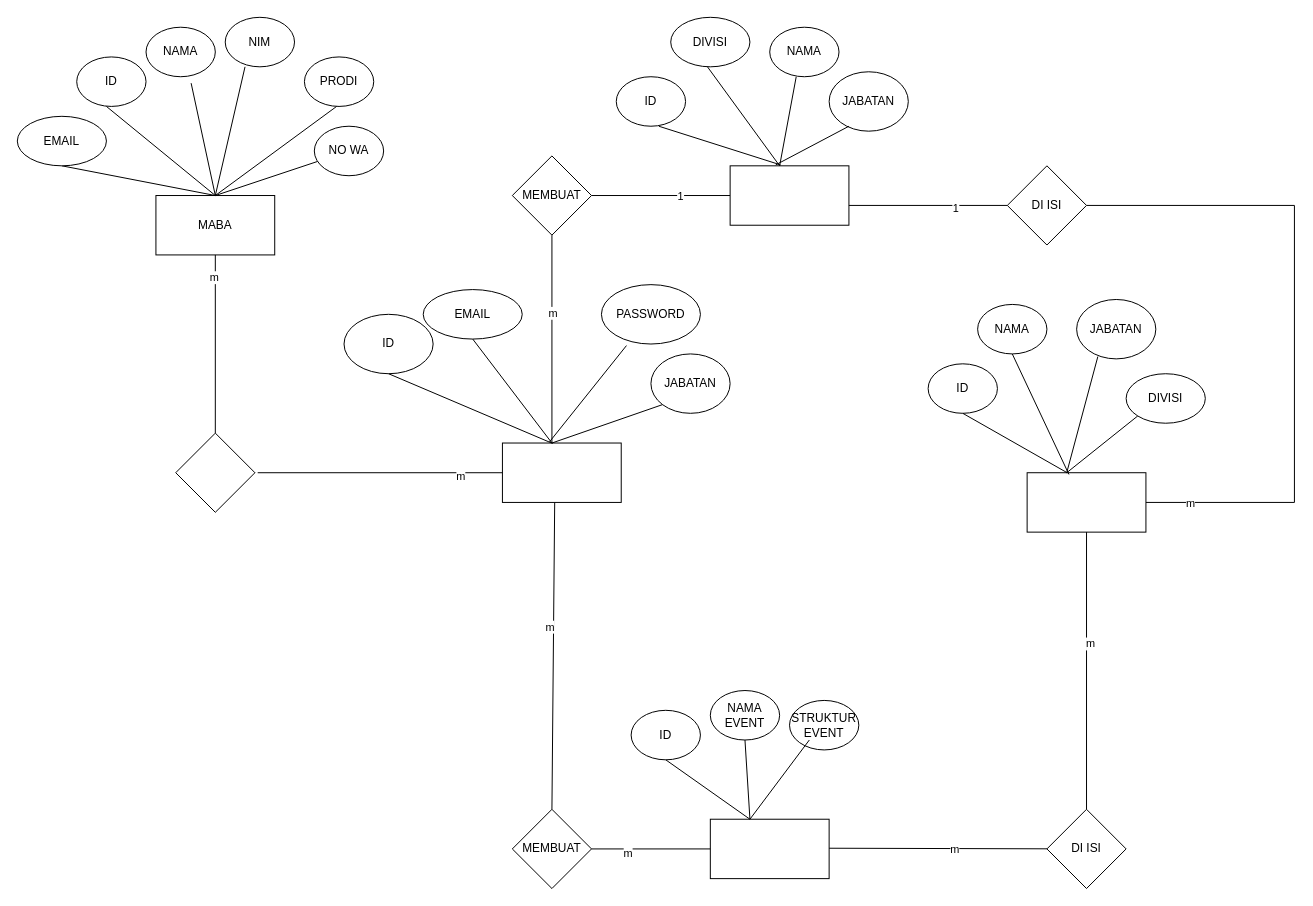
This 1313x906 diagram has some shape labels left out. The centre of each missing label's shape, as x and y in pixels:
ABSENSI: point (789, 195)
BPH: point (561, 472)
EVENT: point (769, 848)
MENDAFTAR: point (215, 472)
PENGURUS: point (1086, 502)
